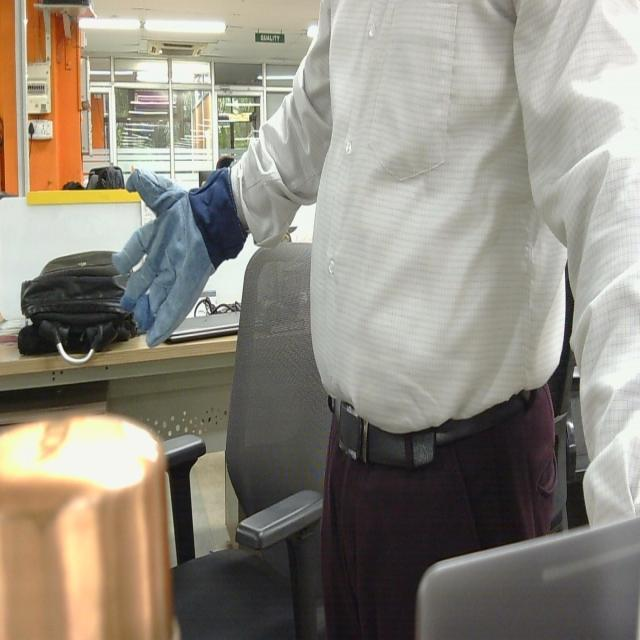Gloves-Detection: (108, 170, 244, 350)
